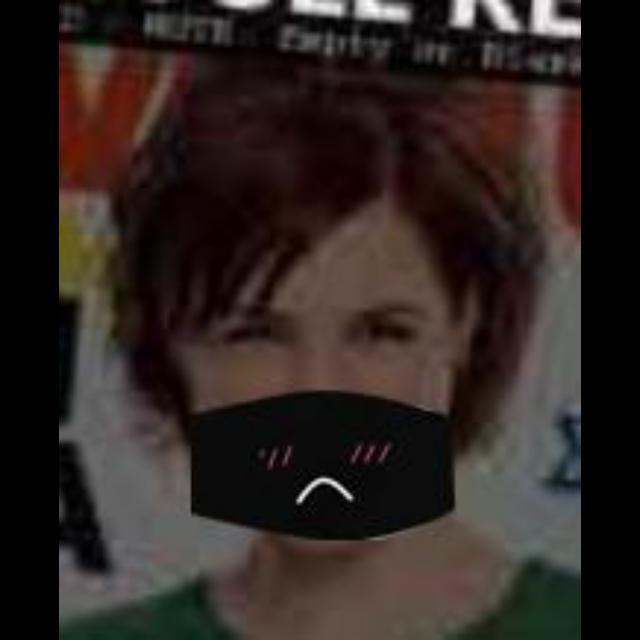suspicion: (87, 70, 559, 536)
